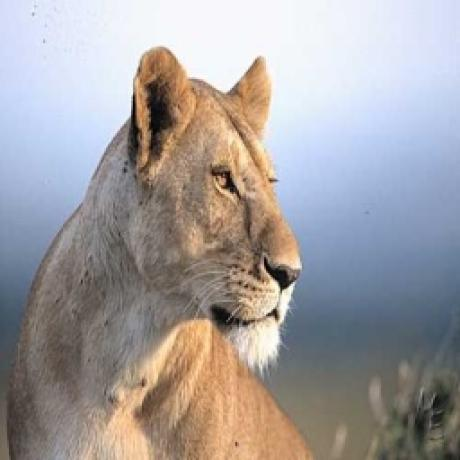Lion: (0, 39, 322, 460)
